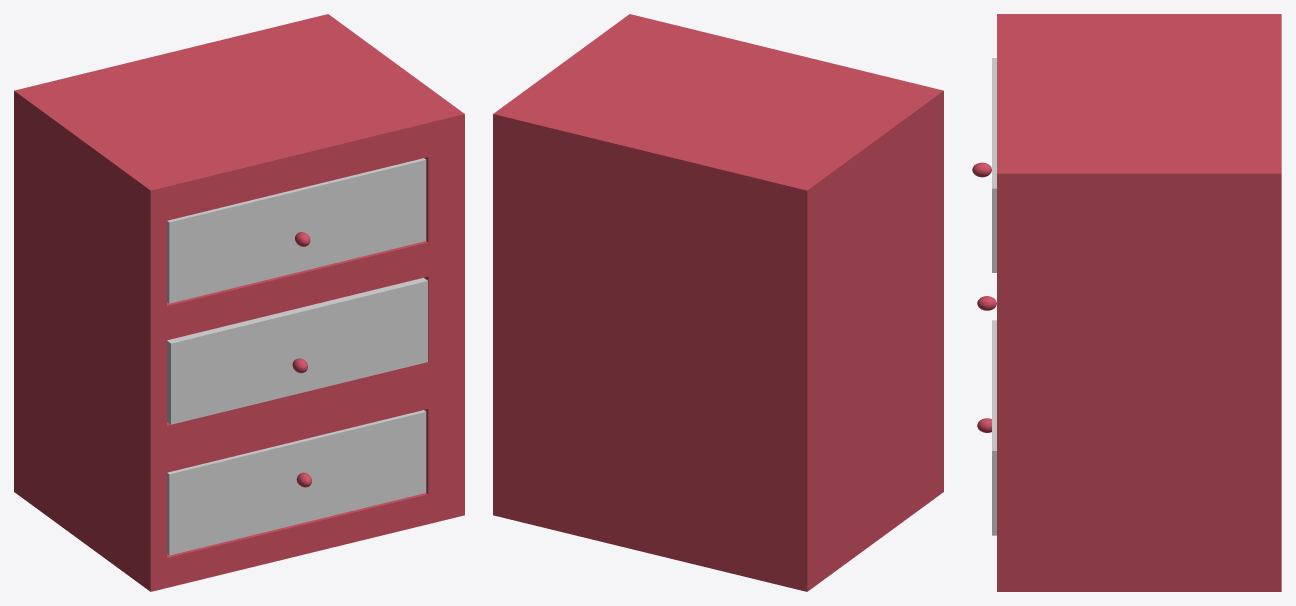
3 renders of one model, left to right at view 1: azimuth 30°, elevation 25°; view 2: azimuth 150°, elevation 25°; view 3: azimuth 270°, elevation 25°, orthographic. The views are drawn at different scales.
Visible parts, largest first — view 1: Mesh_Mesh_head_geo.001_lambert2SG.001; view 2: Mesh_Mesh_head_geo.001_lambert2SG.001; view 3: Mesh_Mesh_head_geo.001_lambert2SG.001.
Part boxes in pixels (x1=…): Mesh_Mesh_head_geo.001_lambert2SG.001: x1=14, y1=14, x2=464, y2=591; Mesh_Mesh_head_geo.001_lambert2SG.001: x1=493, y1=14, x2=943, y2=591; Mesh_Mesh_head_geo.001_lambert2SG.001: x1=972, y1=14, x2=1281, y2=591.
Bounding box in the file's own units: 77 × 94 × 63.
